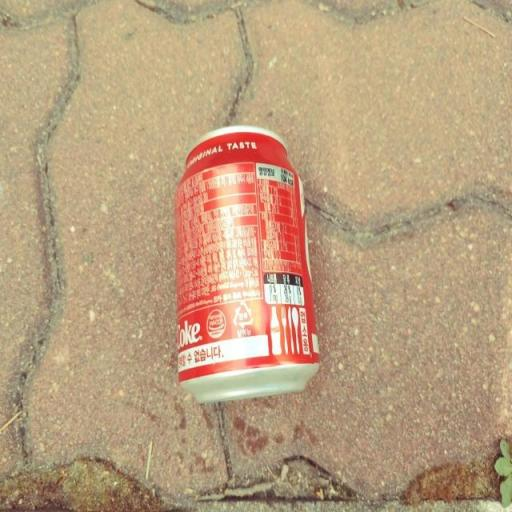metal: (144, 88, 350, 410)
